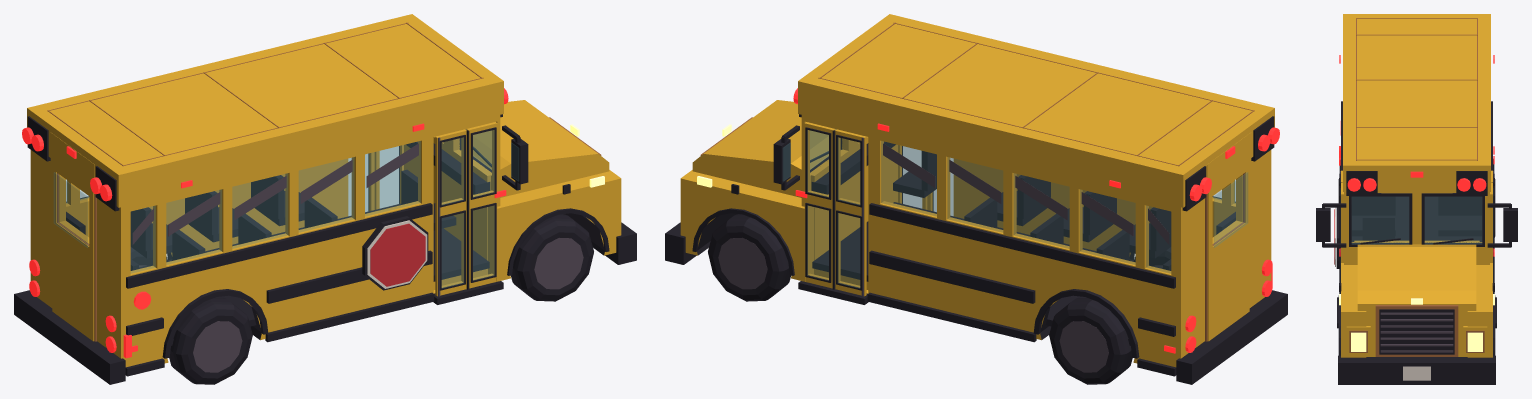
The model's file is veh.school-bus.lod1.glb.
3 views of the same model, side by side, from view 1: azimuth 30°, elevation 25°; view 2: azimuth 150°, elevation 25°; view 3: azimuth 270°, elevation 25° (orthographic). The views are drawn at different scales.
Parts seen in each view (by area): view 1: body, object 22, wheelRR, wheelFR, door_near_0:pal_backpackTeal, door_near_1:pal_backpackTeal, door_near_1:pal_uiDark, door_near_0:pal_schoolBusYellow, door_near_1:pal_schoolBusYellow, door_near_0:pal_uiDark, door_far_1:pal_backpackTeal, lightsBrake; view 2: body, object 22, wheelRL, wheelFL, door_far_0:pal_backpackTeal, door_far_1:pal_backpackTeal, door_far_1:pal_uiDark, door_far_0:pal_schoolBusYellow, door_far_1:pal_schoolBusYellow, door_far_0:pal_uiDark, lightsBrake; view 3: body, object 22, lightsFront, door_far_1:pal_schoolBusYellow, door_near_1:pal_schoolBusYellow, door_far_1:pal_uiDark, door_near_1:pal_uiDark.
Boxes of the visible parts, x1,y1,x2,y2 form: body: [22, 14, 609, 376]; object 22: [14, 100, 636, 384]; wheelRR: [169, 297, 252, 384]; wheelFR: [510, 214, 593, 301]; door_near_0:pal_backpackTeal: [442, 137, 463, 288]; door_near_1:pal_backpackTeal: [473, 130, 494, 280]; door_near_1:pal_uiDark: [466, 127, 496, 289]; door_near_0:pal_schoolBusYellow: [435, 129, 466, 296]; door_near_1:pal_schoolBusYellow: [466, 122, 497, 288]; door_near_0:pal_uiDark: [439, 135, 465, 290]; door_far_1:pal_backpackTeal: [380, 146, 398, 207]; lightsBrake: [29, 259, 116, 352]; body: [692, 14, 1279, 376]; object 22: [665, 100, 1287, 384]; wheelRL: [1049, 297, 1132, 384]; wheelFL: [708, 214, 791, 301]; door_far_0:pal_backpackTeal: [838, 137, 859, 288]; door_far_1:pal_backpackTeal: [807, 130, 828, 280]; door_far_1:pal_uiDark: [805, 127, 835, 289]; door_far_0:pal_schoolBusYellow: [835, 129, 866, 296]; door_far_1:pal_schoolBusYellow: [804, 122, 835, 288]; door_far_0:pal_uiDark: [836, 135, 862, 290]; lightsBrake: [1185, 259, 1272, 352]; body: [1316, 14, 1517, 355]; object 22: [1338, 159, 1495, 384]; lightsFront: [1351, 332, 1482, 351]; door_far_1:pal_schoolBusYellow: [1490, 183, 1492, 262]; door_near_1:pal_schoolBusYellow: [1341, 183, 1343, 262]; door_far_1:pal_uiDark: [1492, 182, 1494, 293]; door_near_1:pal_uiDark: [1339, 182, 1341, 293].
Bounding box in the file's own units: 8.02 × 3.42 × 3.3.
